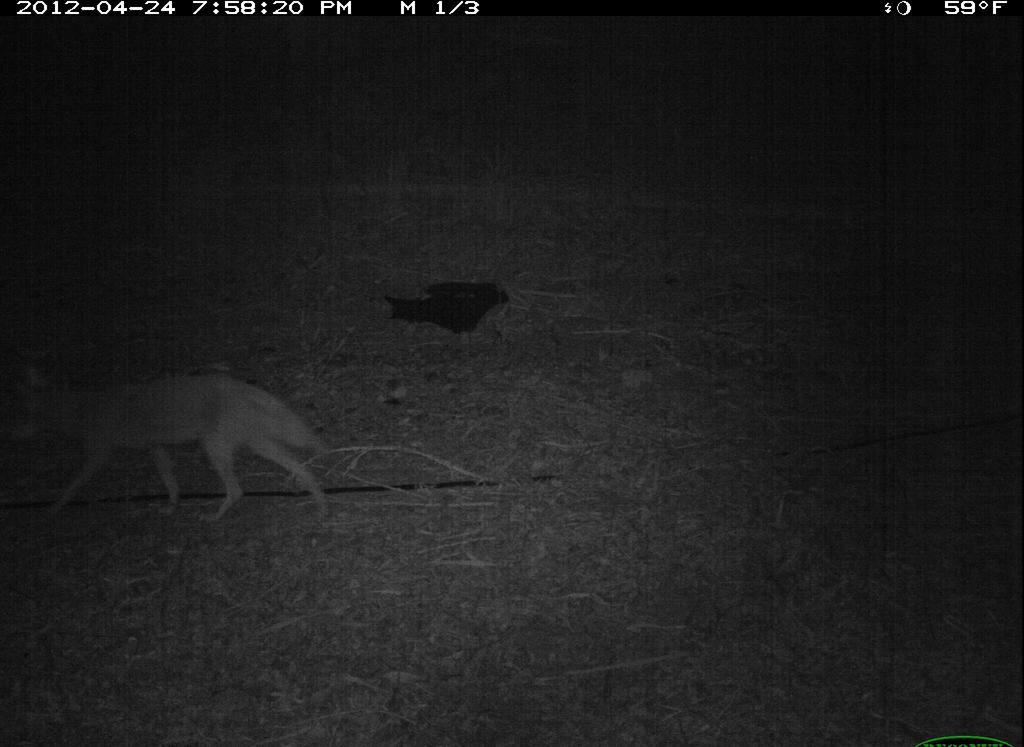coyote: (1, 358, 340, 530)
